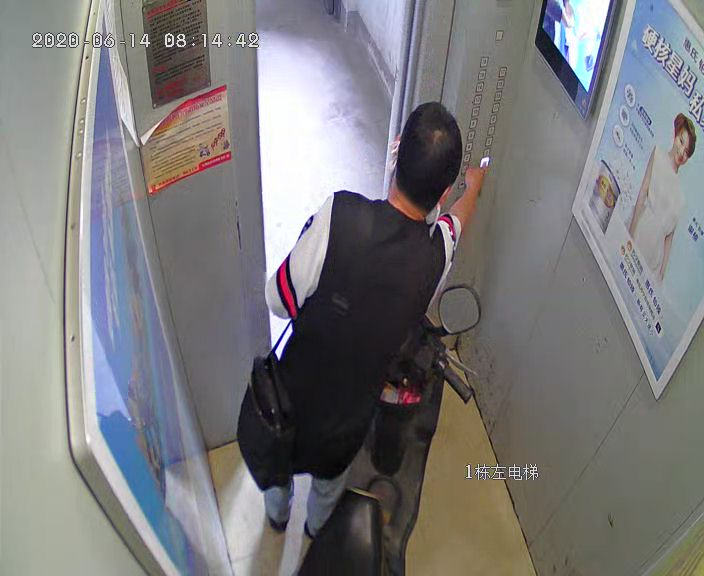Electric-bicycle: (299, 280, 479, 576)
